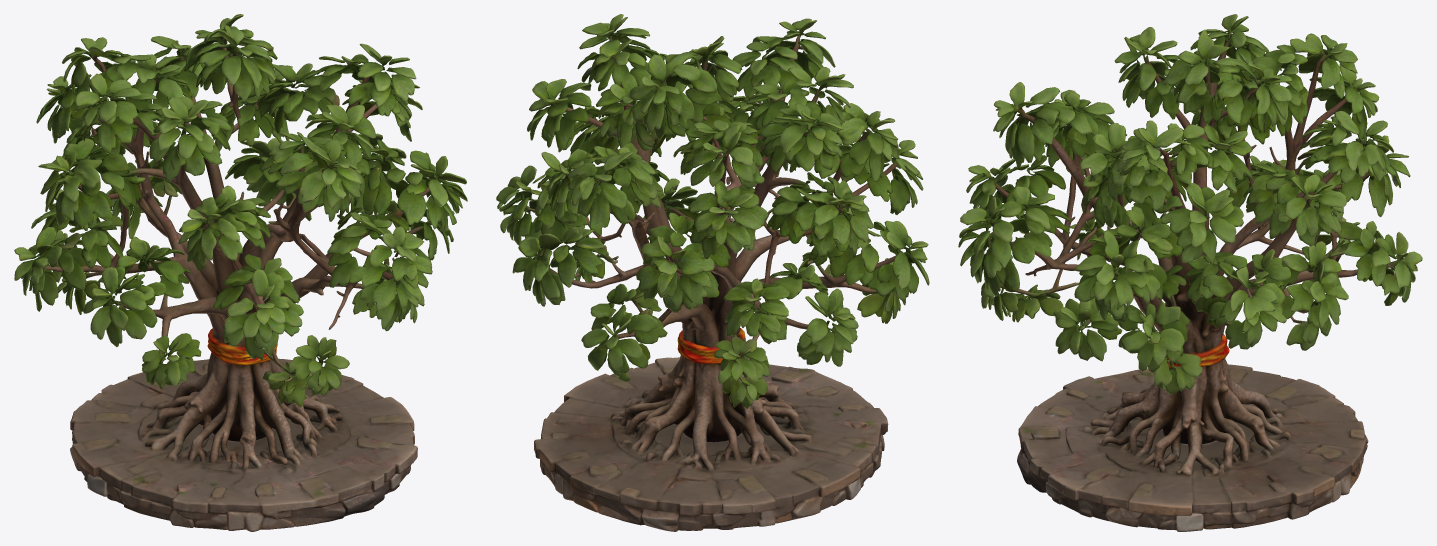
The model's file is large-old-peepal-sacred-fig-tree-thick-g-cmvij6ko.glb.
The picture shows the model from 3 angles, left to right: view 1: azimuth 30°, elevation 25°; view 2: azimuth 150°, elevation 25°; view 3: azimuth 270°, elevation 25°; orthographic projection.
Visible parts, largest first — view 1: tripo_node_7ecb94f6-45de-4725-a891-7aaafe77963f; view 2: tripo_node_7ecb94f6-45de-4725-a891-7aaafe77963f; view 3: tripo_node_7ecb94f6-45de-4725-a891-7aaafe77963f.
Boxes of the visible parts, left/top/right/bottom form: tripo_node_7ecb94f6-45de-4725-a891-7aaafe77963f: left=14, top=14, right=467, bottom=531; tripo_node_7ecb94f6-45de-4725-a891-7aaafe77963f: left=496, top=14, right=929, bottom=531; tripo_node_7ecb94f6-45de-4725-a891-7aaafe77963f: left=958, top=14, right=1422, bottom=531.
Size of the model in its own units: 0.918 by 1 by 0.9928.
Materials: 1 (1 with a texture image).
